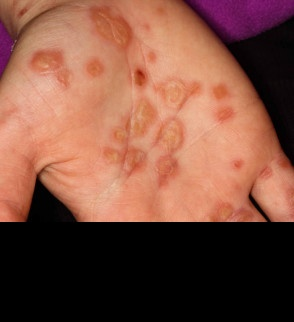SJS-TEN: (80, 38, 252, 212), (21, 33, 93, 103), (77, 0, 141, 56), (83, 55, 107, 79)
